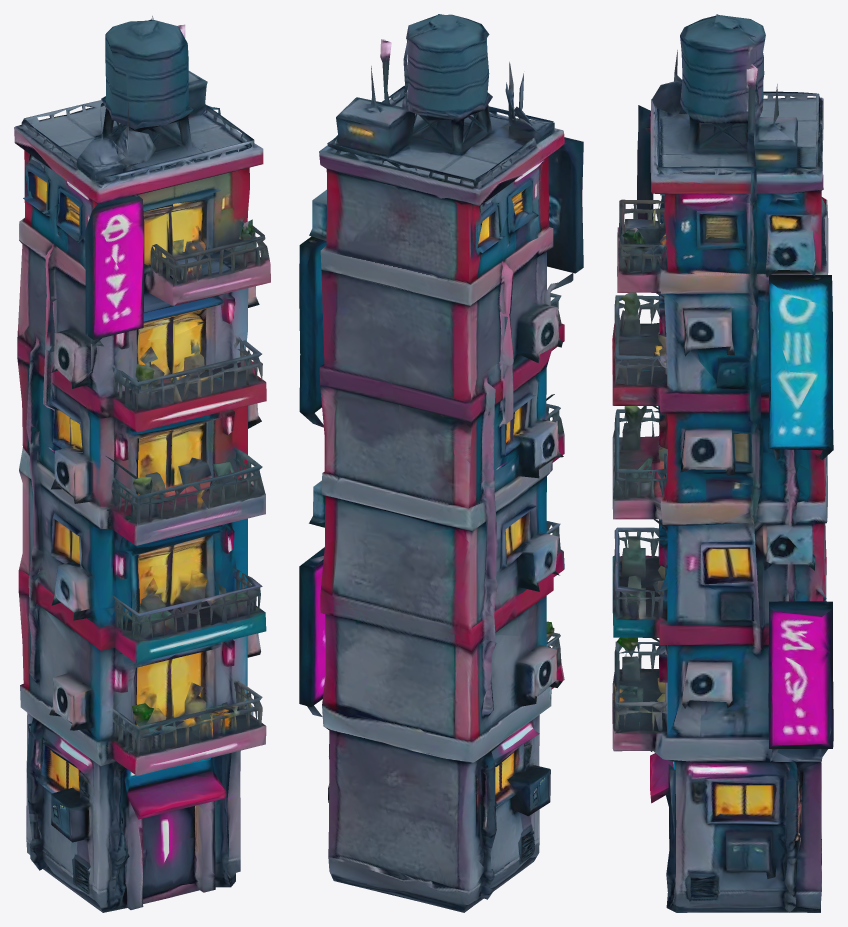
The model's file is env-building-1.glb.
3 views of the same model, side by side, from view 1: azimuth 30°, elevation 25°; view 2: azimuth 150°, elevation 25°; view 3: azimuth 270°, elevation 25° (orthographic). The views are drawn at different scales.
Visible parts, largest first — view 1: env-building-1; view 2: env-building-1; view 3: env-building-1.
Boxes of the visible parts, box(x1,y1,x2,y2) form: env-building-1: box(14, 16, 270, 912); env-building-1: box(299, 14, 583, 912); env-building-1: box(612, 14, 833, 912).
Size of the model in its own units: 3.29 by 14 by 3.25.
1 material, 1 textured.
